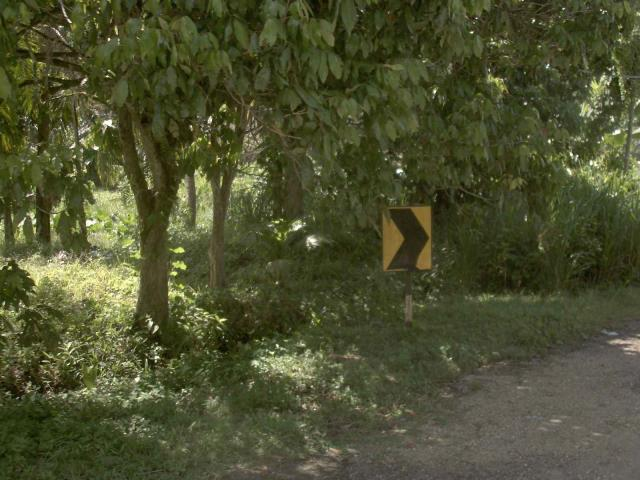traffic_sign: (372, 194, 442, 285)
